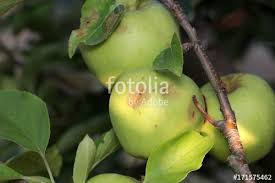damaged_apple: (80, 1, 186, 87), (109, 69, 210, 158), (197, 69, 271, 166)
